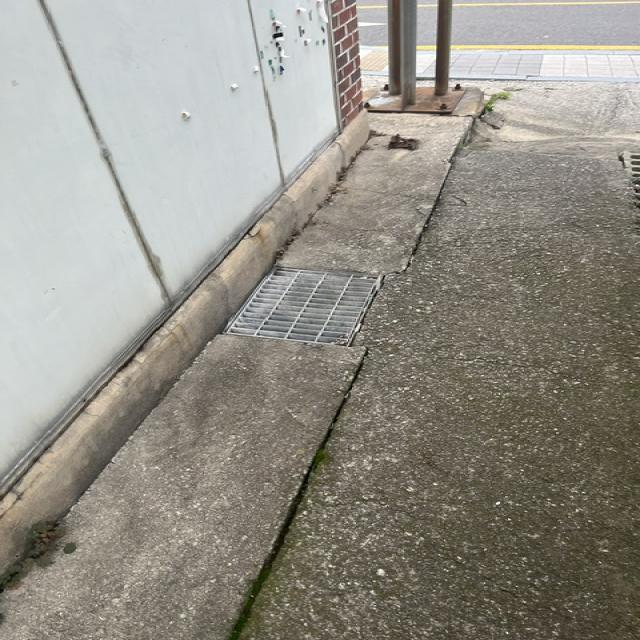drain_area: (227, 268, 380, 344)
drain_full: (223, 268, 382, 347)
